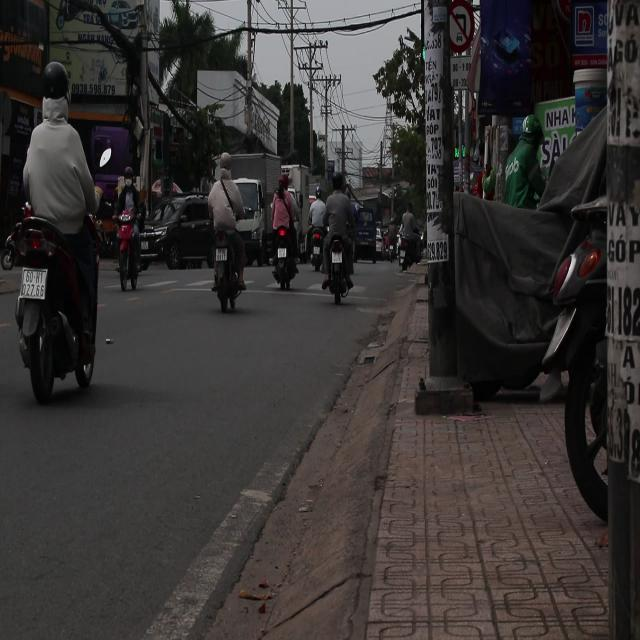car: (145, 194, 214, 270)
motorbike: (2, 213, 100, 401), (197, 206, 250, 320), (266, 197, 300, 305), (114, 201, 146, 293), (329, 220, 358, 318), (310, 218, 329, 285)
